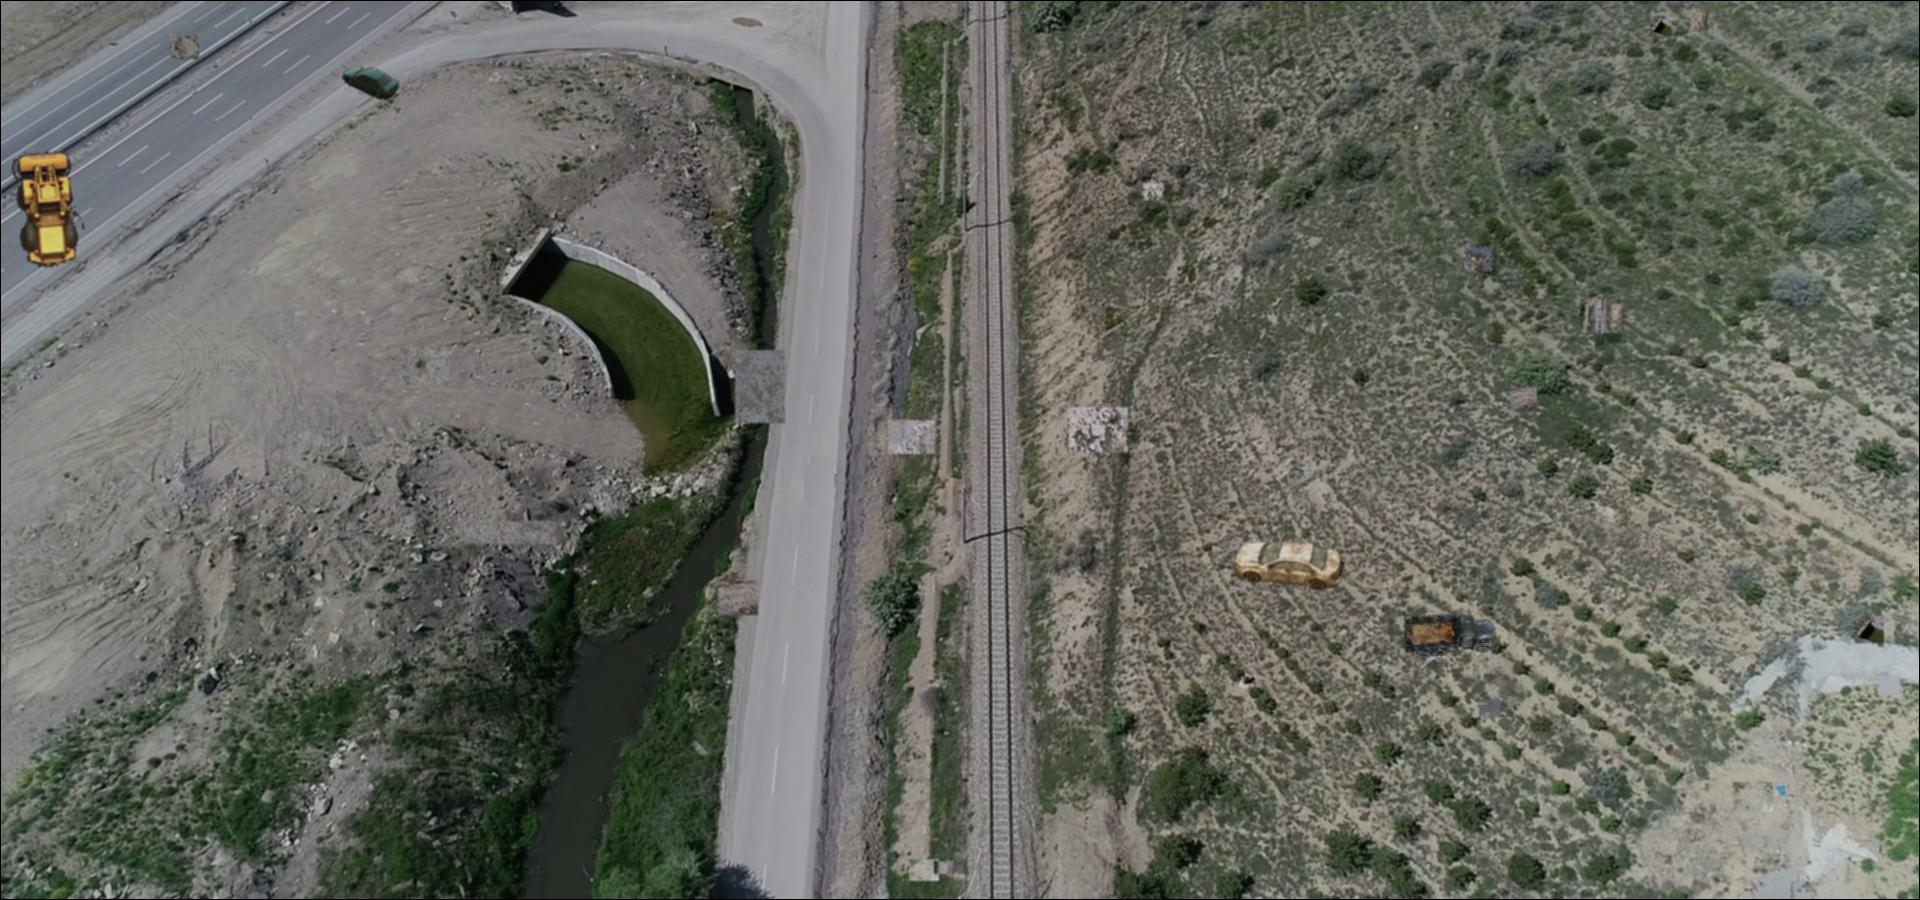arac: (9, 149, 94, 272), (1234, 538, 1348, 590), (1402, 610, 1498, 659), (340, 62, 400, 100)
